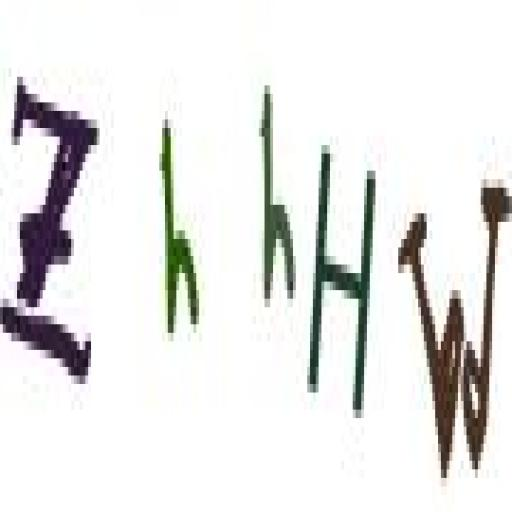H: (306, 118, 380, 456)
W: (389, 162, 512, 486)
Z: (1, 48, 104, 404)
h: (154, 106, 204, 352), (255, 62, 301, 328)
